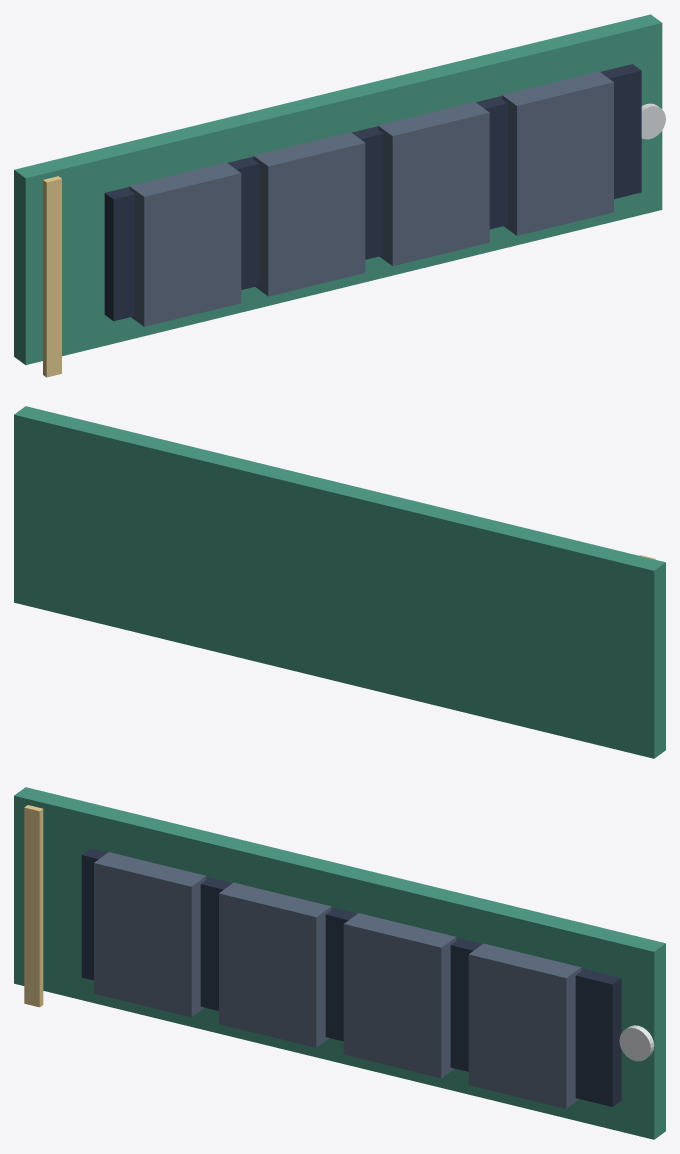
3 views of the same model, one above another, from view 1: azimuth 30°, elevation 25°; view 2: azimuth 150°, elevation 25°; view 3: azimuth 330°, elevation 25° (orthographic).
Parts seen in each view (by area): view 1: nvme_pcb_1, nand_flash_3, nand_flash_4, nand_flash_5, nand_flash_6, controller_strip_2, gold_finger_9, gold_finger_7, gold_finger_11, m2_screw_12, gold_finger_10; view 2: nvme_pcb_1; view 3: nvme_pcb_1, nand_flash_5, nand_flash_6, controller_strip_2, nand_flash_4, nand_flash_3, gold_finger_7, gold_finger_8, gold_finger_11, m2_screw_12, gold_finger_10, gold_finger_9.
Part boxes in pixels (x1=…): nvme_pcb_1: x1=14, y1=14, x2=662, y2=364; nand_flash_3: x1=129, y1=162, x2=241, y2=326; nand_flash_4: x1=253, y1=132, x2=365, y2=296; nand_flash_5: x1=378, y1=102, x2=489, y2=265; nand_flash_6: x1=502, y1=71, x2=613, y2=235; controller_strip_2: x1=104, y1=64, x2=641, y2=321; gold_finger_9: x1=43, y1=219, x2=61, y2=336; gold_finger_7: x1=43, y1=261, x2=61, y2=377; gold_finger_11: x1=43, y1=176, x2=61, y2=292; m2_screw_12: x1=641, y1=103, x2=665, y2=139; gold_finger_10: x1=43, y1=199, x2=61, y2=315; nvme_pcb_1: x1=14, y1=406, x2=665, y2=758; nvme_pcb_1: x1=14, y1=787, x2=665, y2=1139; nand_flash_5: x1=343, y1=913, x2=456, y2=1078; nand_flash_6: x1=468, y1=943, x2=581, y2=1108; controller_strip_2: x1=81, y1=848, x2=621, y2=1106; nand_flash_4: x1=219, y1=882, x2=331, y2=1047; nand_flash_3: x1=94, y1=852, x2=206, y2=1017; gold_finger_7: x1=24, y1=889, x2=43, y2=1007; gold_finger_8: x1=24, y1=869, x2=43, y2=986; gold_finger_11: x1=24, y1=805, x2=43, y2=924; m2_screw_12: x1=619, y1=1025, x2=654, y2=1061; gold_finger_10: x1=24, y1=828, x2=43, y2=945; gold_finger_9: x1=24, y1=848, x2=43, y2=964.
Bounding box in the file's own units: 0.82 × 0.245 × 0.0695.
